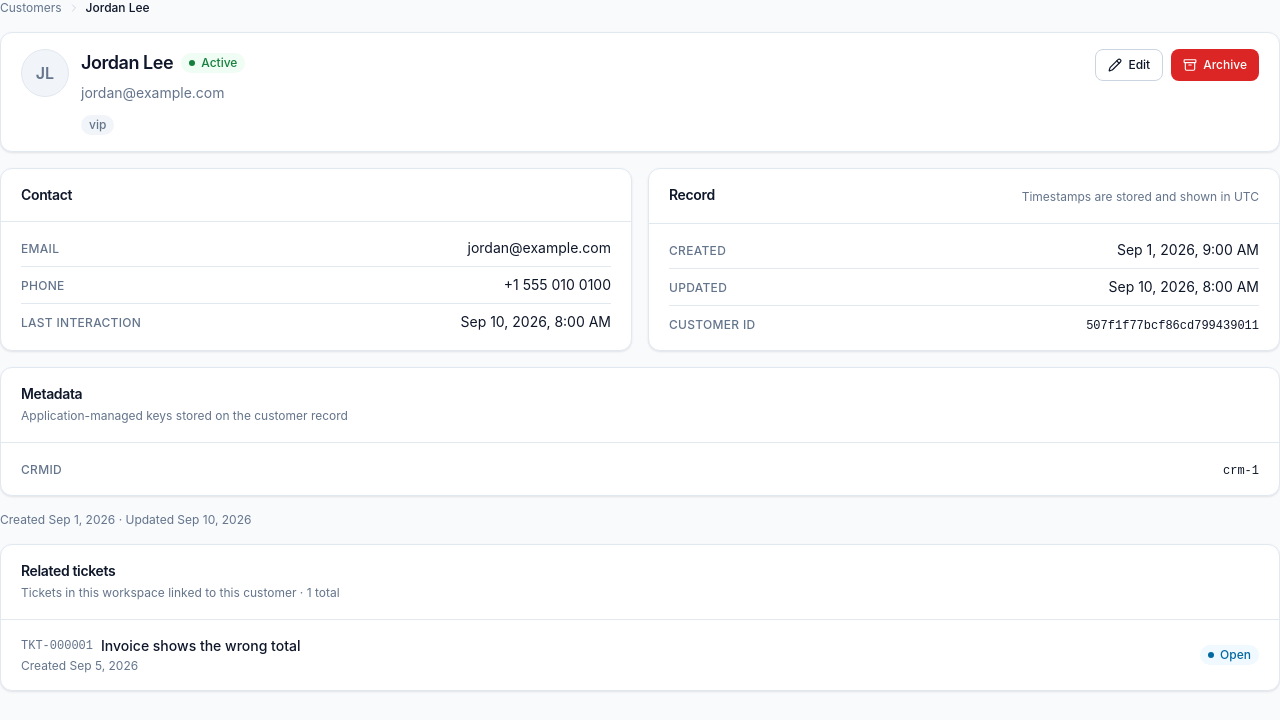
CustomerDetailPage › archives after confirmation and returns to the directory
expect the heading "Jordan Lee" is shown: met, box left=81, top=49, right=173, bottom=77
Step 1. Click the button "Archive" → (1215, 65), box left=1171, top=49, right=1259, bottom=81
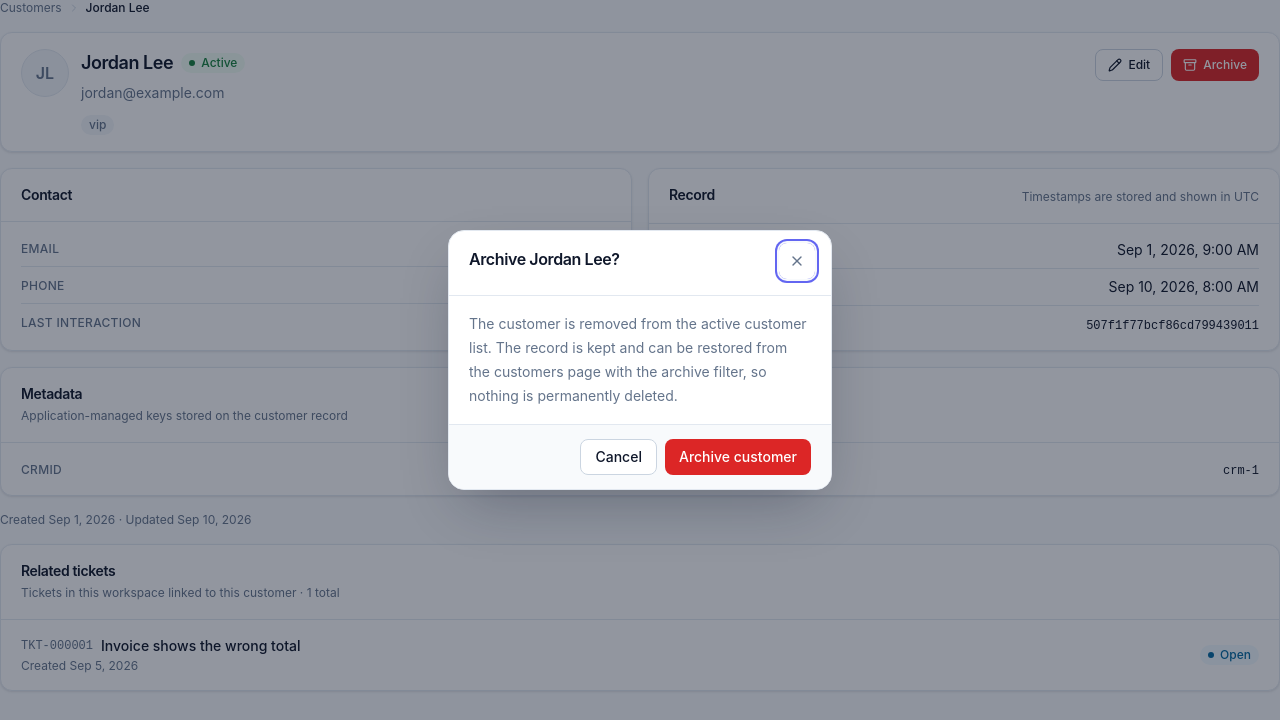
expect the heading "Archive Jordan Lee?" is shown: met, box left=469, top=247, right=620, bottom=271
Step 2. Click the button "Archive customer" → (738, 457), box left=665, top=439, right=811, bottom=475
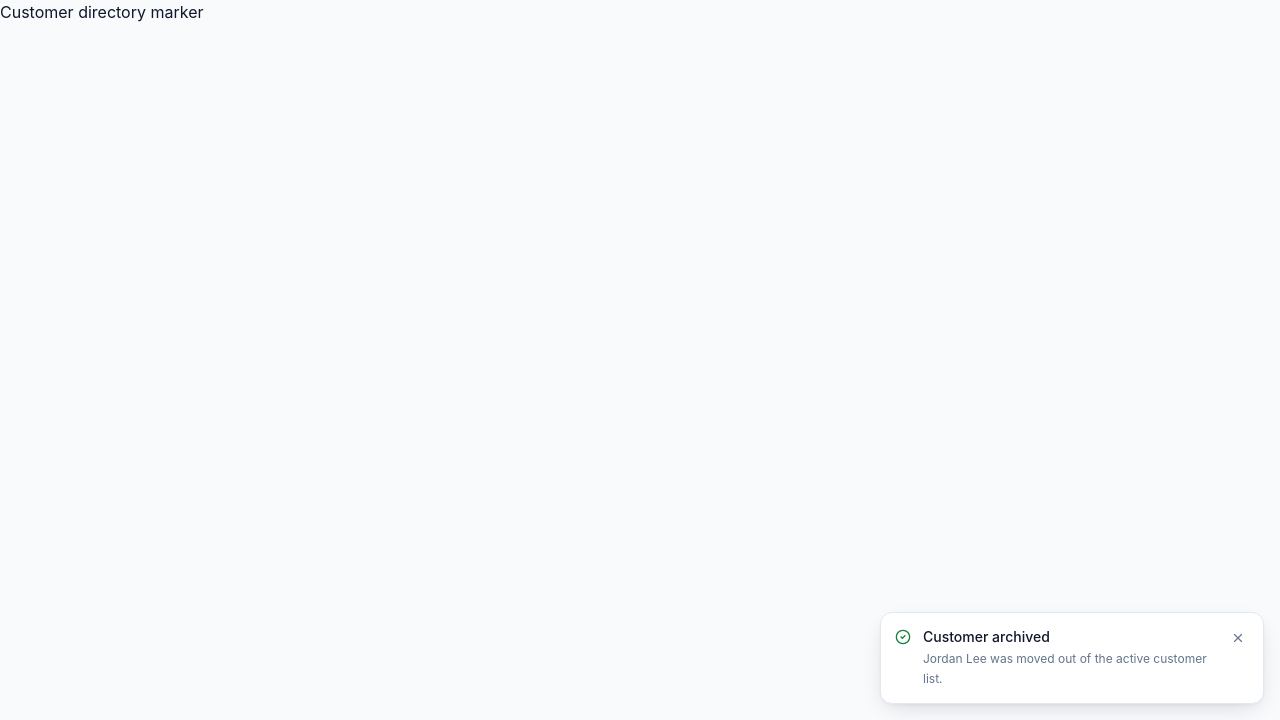
expect the text "Customer directory marker" is shown: met, box left=0, top=2, right=204, bottom=22
